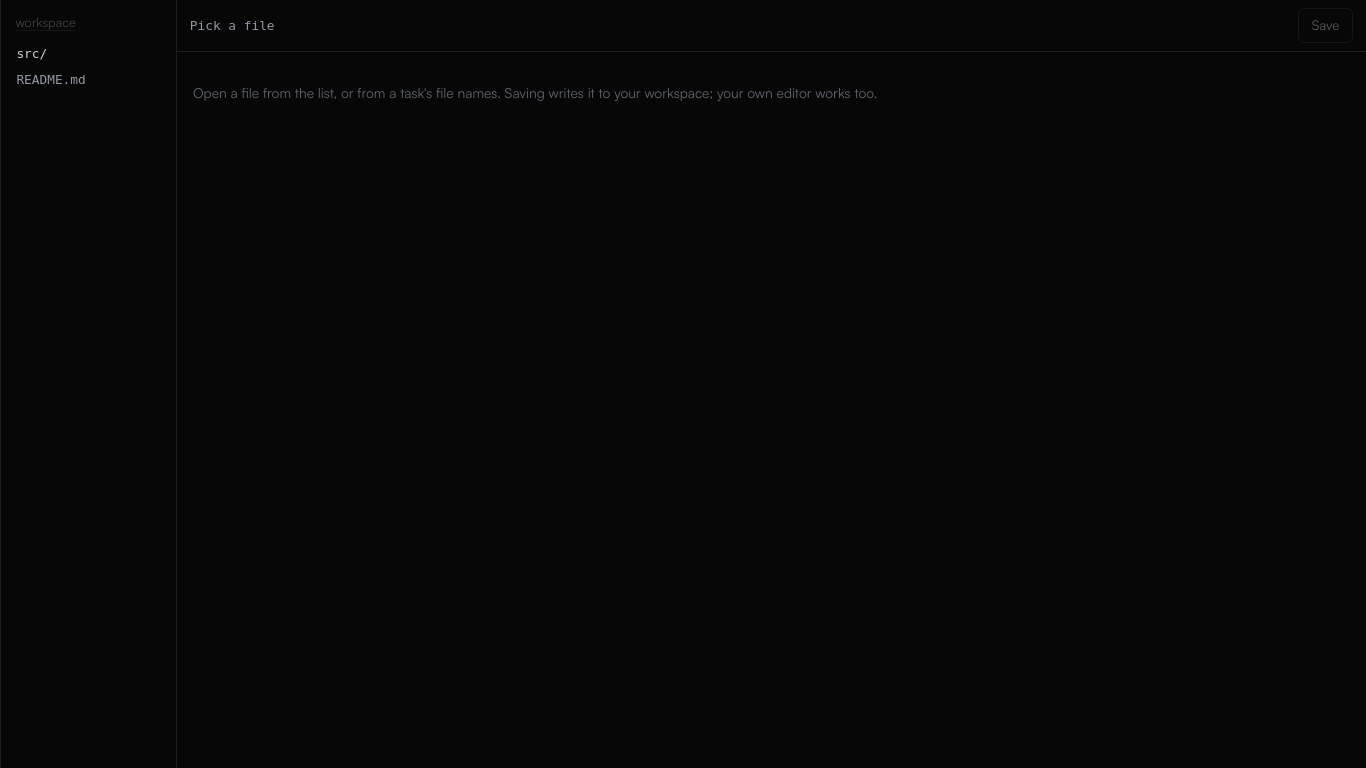
Editor › never overwrites a change made elsewhere without asking
Step 1. Click the button "README.md" → (88, 80), box [7, 67, 170, 93]
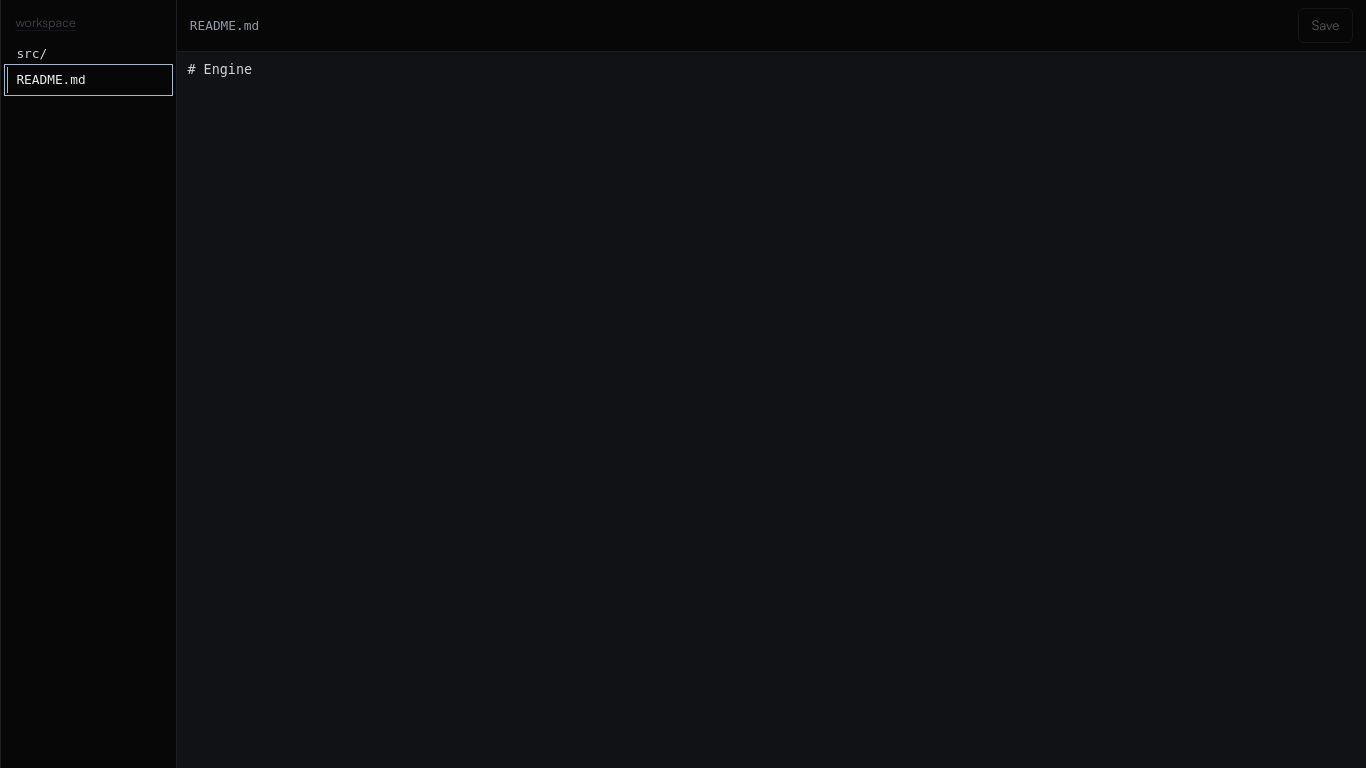
Step 2. Type "Mine." into the text box named "Editing README.md" → (772, 410), box [177, 52, 1365, 767]
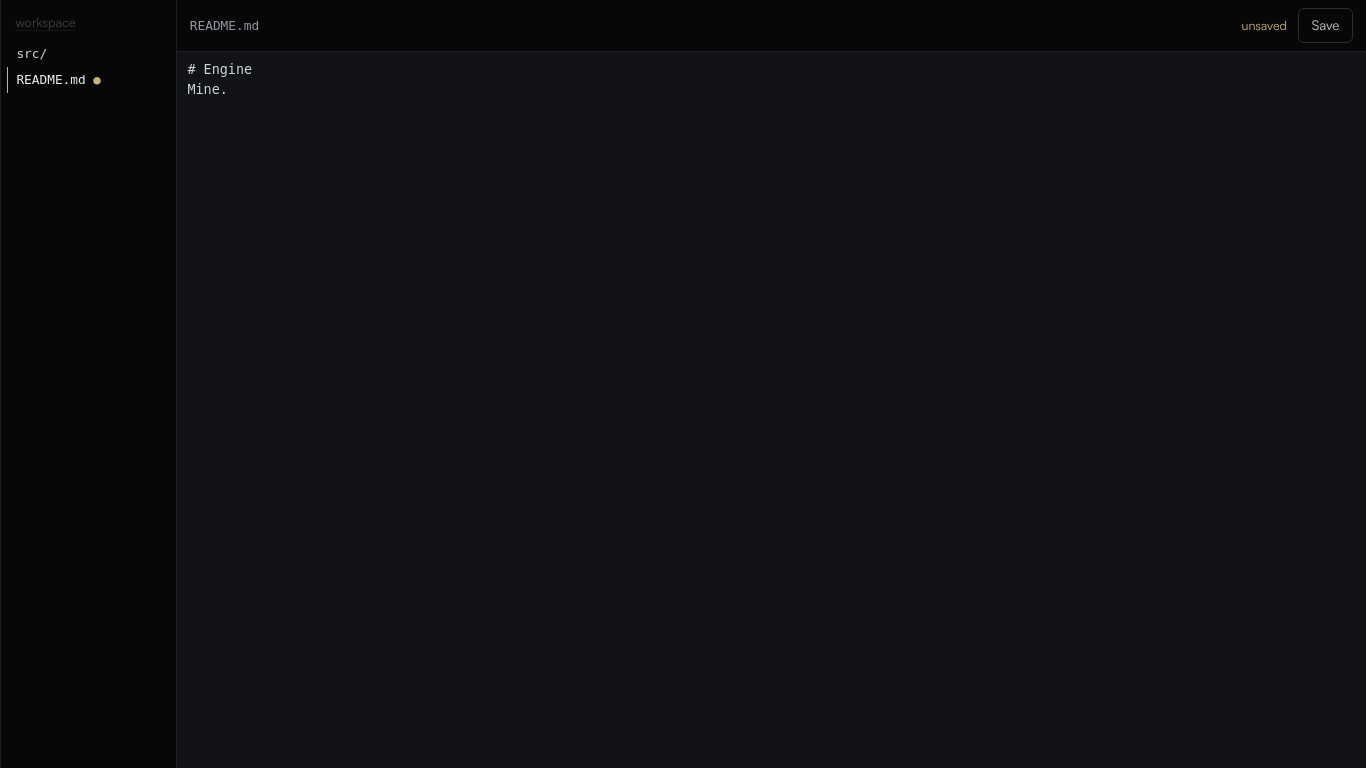
Step 3. Click the button "Save" → (1326, 26), box [1298, 8, 1353, 43]
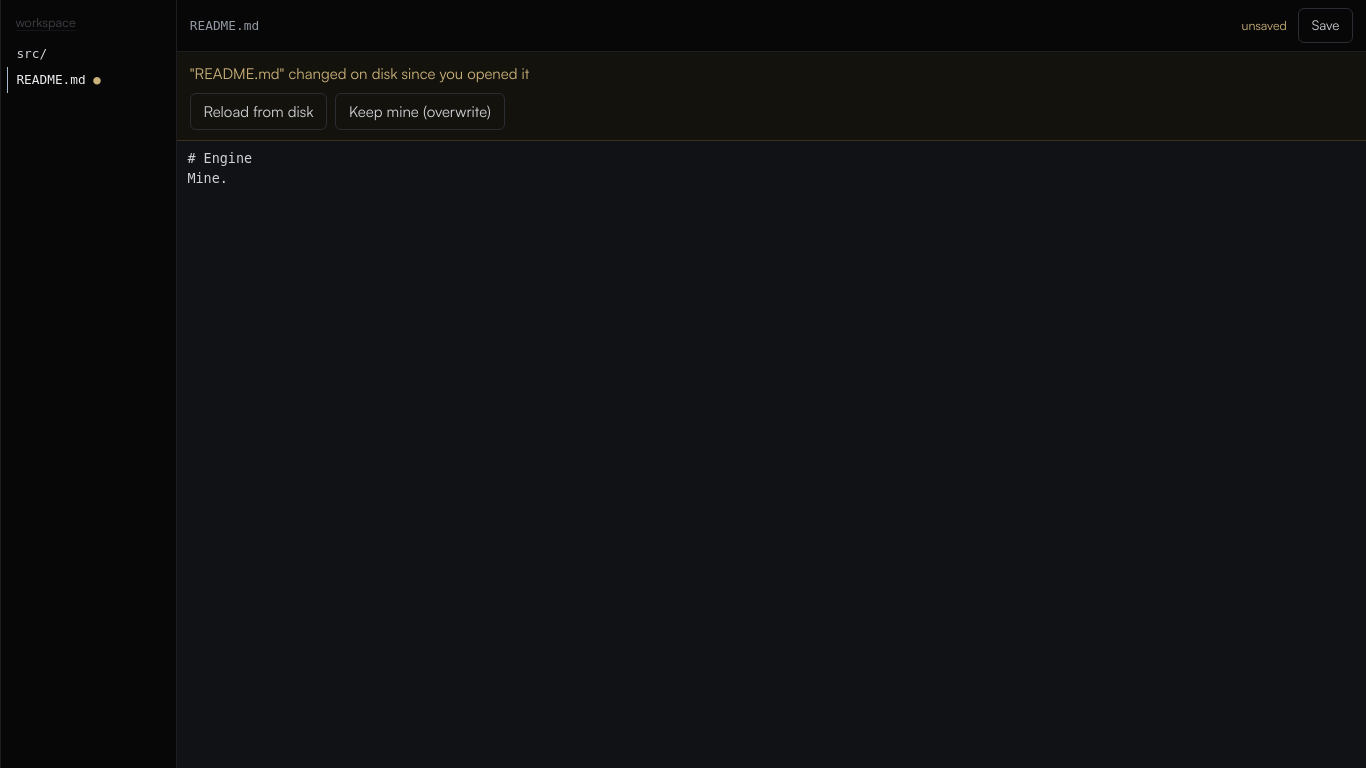
Expected: the message shows "changed on disk since you opened it", [190, 64, 529, 83]
Step 4. Click the button "Keep mine (overwrite)" → (420, 112), box [335, 93, 505, 130]
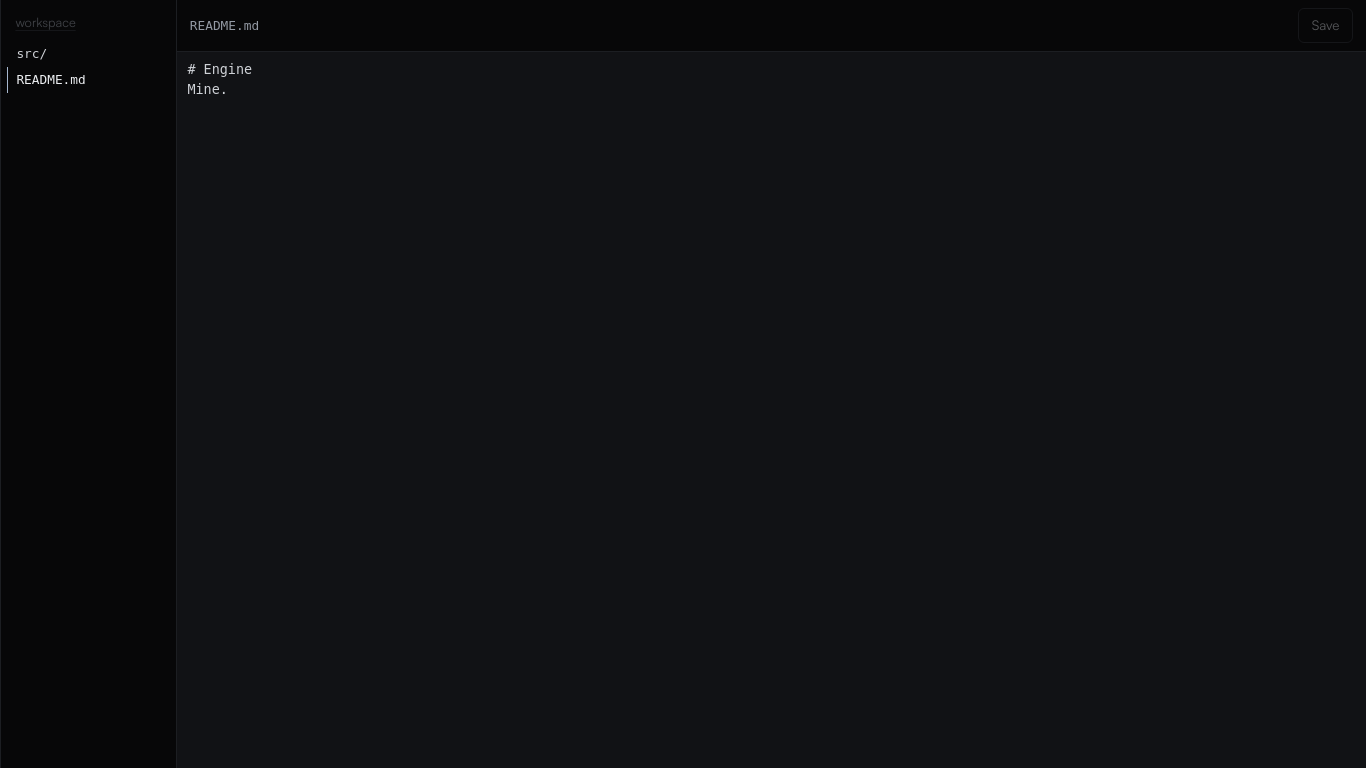
Expected: the message is gone
Step 5. Type "?" into the text box named "Editing README.md" → (772, 410), box [177, 52, 1365, 767]
Step 6. Click the button "Save" → (1326, 26), box [1298, 8, 1353, 43]
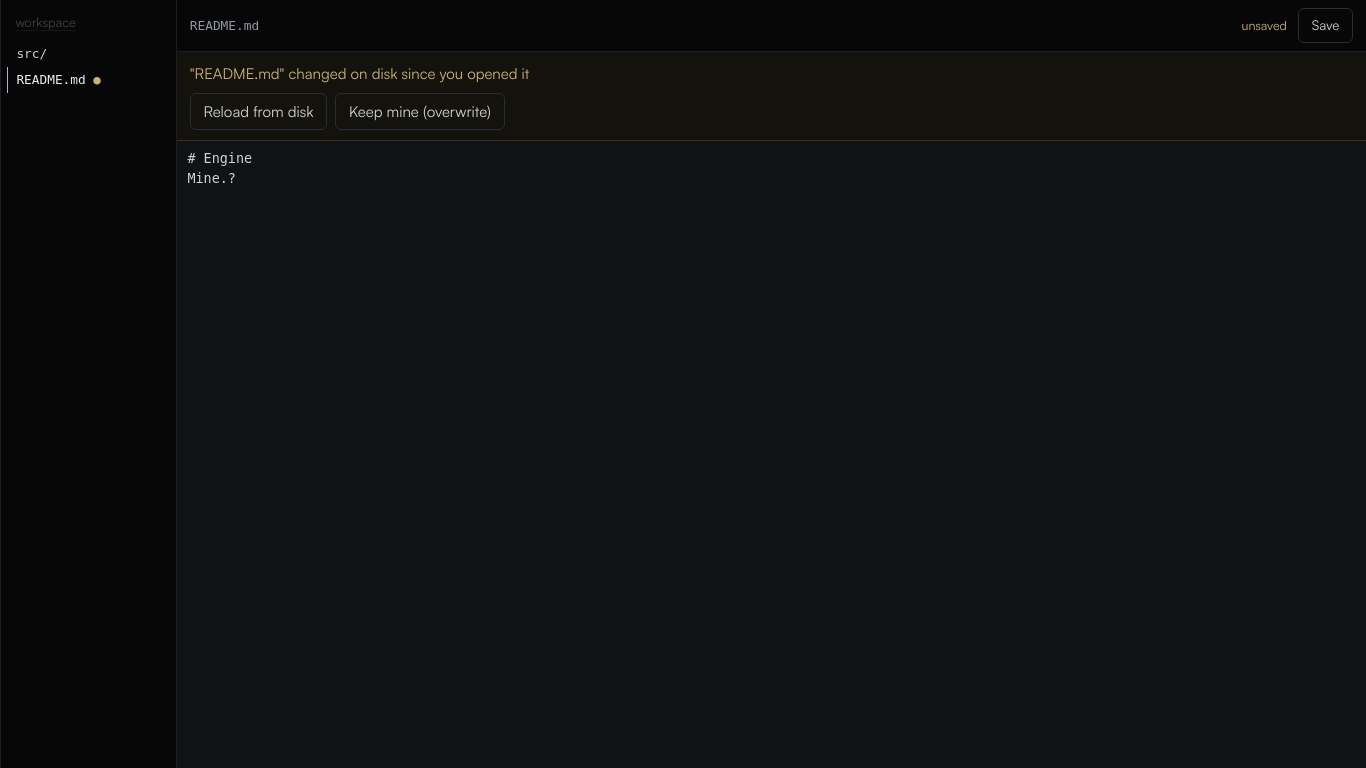
Step 7. Click the button "Reload from disk" → (259, 112), box [190, 93, 327, 130]
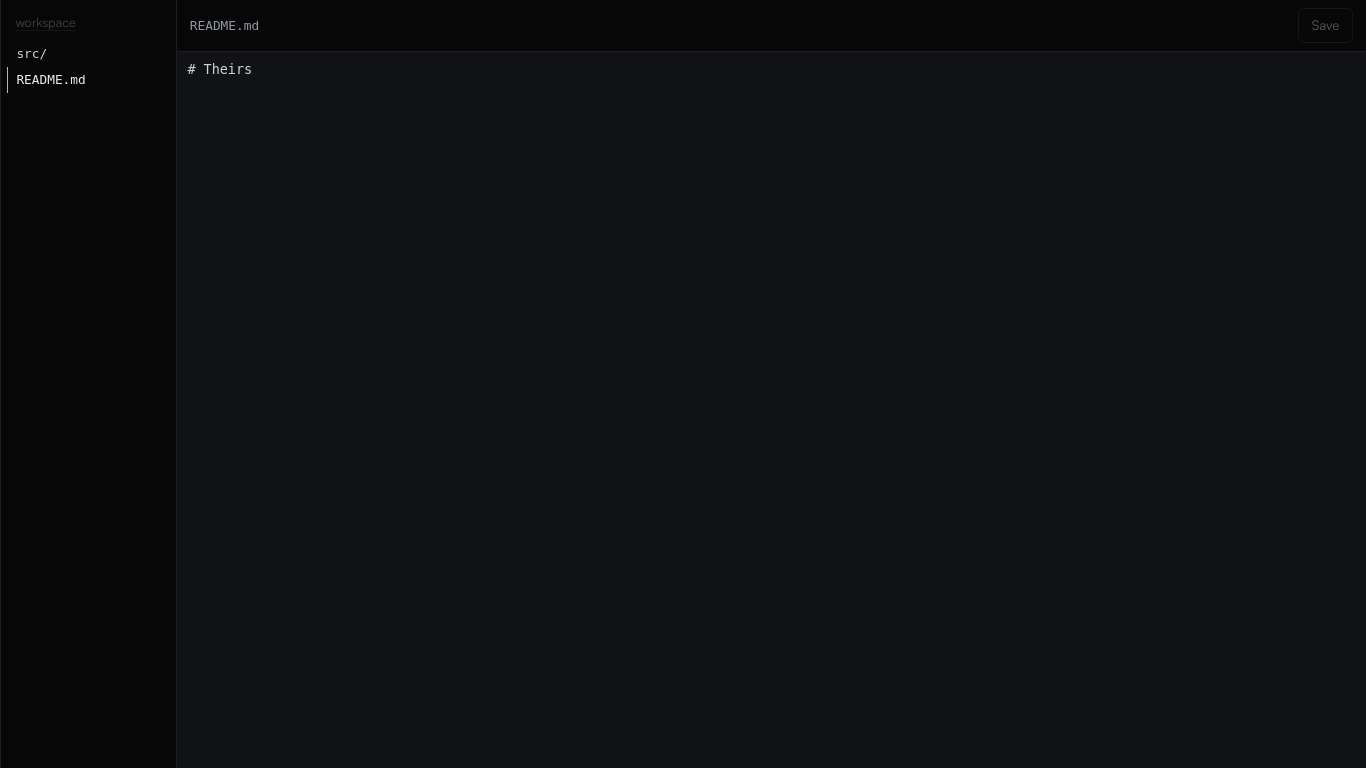
Expected: the message is gone
